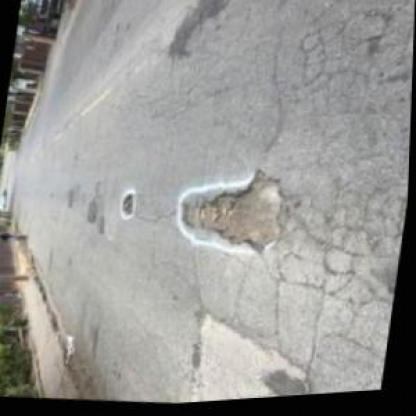pothole: (175, 165, 291, 263), (118, 192, 137, 218)
